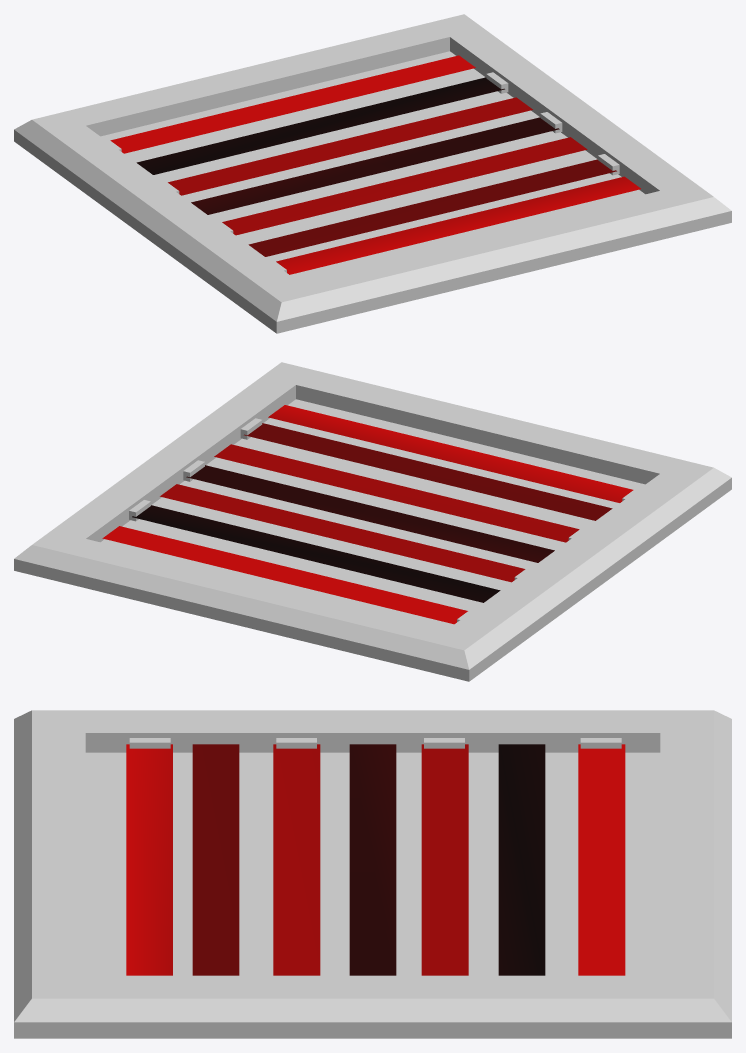
Rendered from LaserTrap.fbx.
3 renders of one model, top to bottom at view 1: azimuth 30°, elevation 25°; view 2: azimuth 150°, elevation 25°; view 3: azimuth 270°, elevation 25°, orthographic. The views are drawn at different scales.
Parts seen in each view (by area): view 1: LaserTrap, Lasers; view 2: LaserTrap, Lasers; view 3: LaserTrap, Lasers.
Boxes of the visible parts, x1,y1,x2,y2 form: LaserTrap: (14, 14, 731, 333); Lasers: (110, 55, 640, 274); LaserTrap: (14, 362, 731, 681); Lasers: (102, 405, 633, 624); LaserTrap: (14, 710, 731, 1038); Lasers: (126, 744, 625, 975).
Size of the model in its own units: 100 by 5 by 100.
